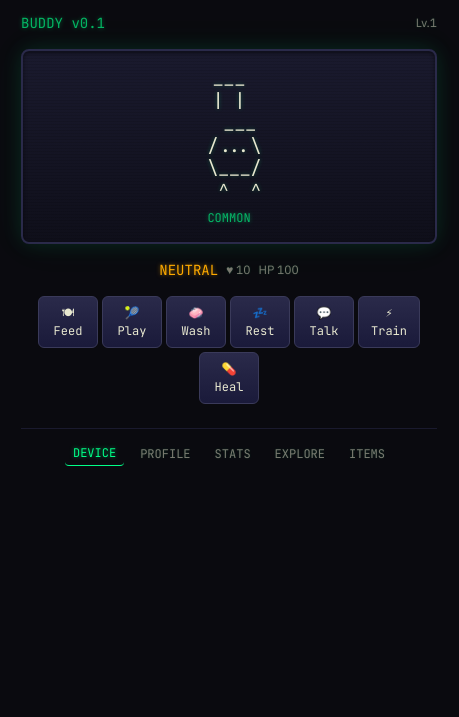
Test: MainDevice › shows stat and need progressbars on the STATS tab
The width and height of the screenshot is (459, 717).
What coordinates should you click on to do the following:
click the button "STATS"
I would click on:
 (233, 454)
Its box is x1=207 y1=441 x2=259 y2=466.
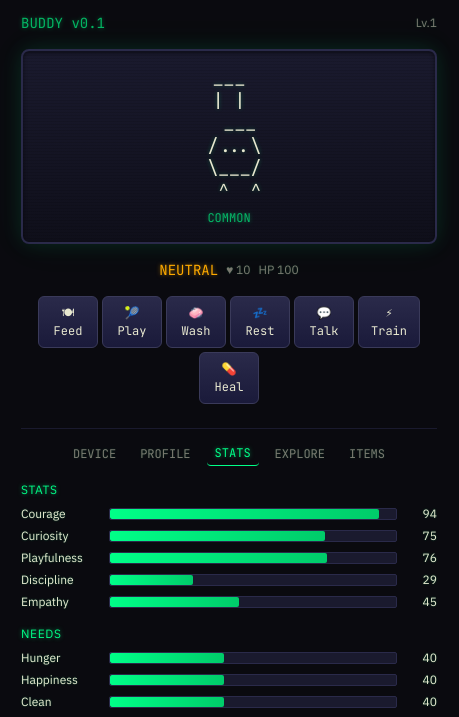
Expected: the number of progress indicators is 10
